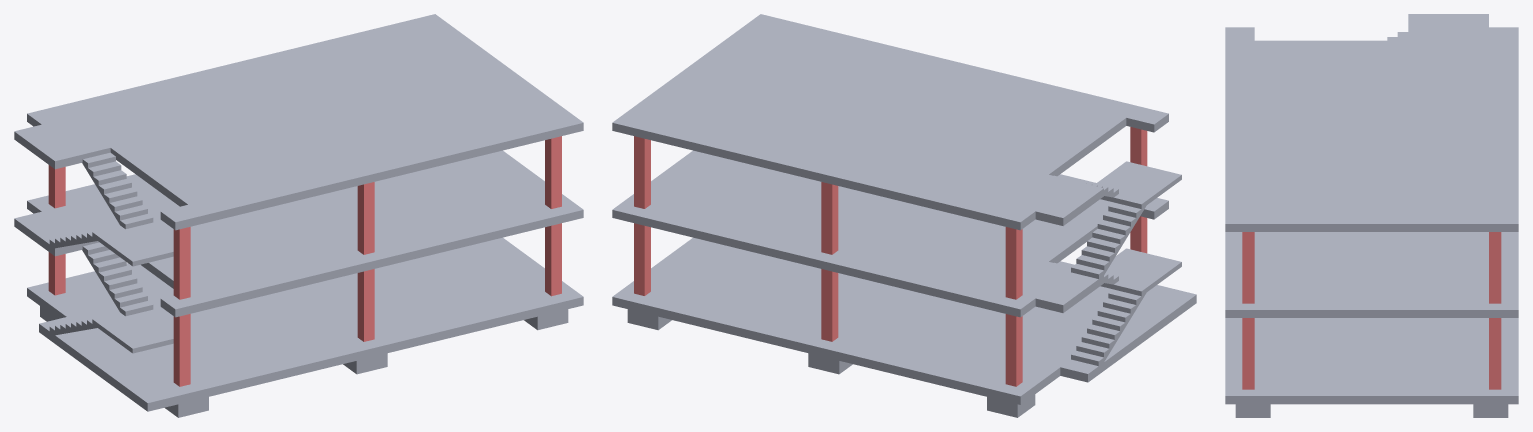
The model's file is Domino_01.glb.
3 views of the same model, side by side, from view 1: azimuth 30°, elevation 25°; view 2: azimuth 150°, elevation 25°; view 3: azimuth 270°, elevation 25° (orthographic).
Parts seen in each view (by area): view 1: mass; view 2: mass; view 3: mass.
Boxes of the visible parts, box(x1,y1,x2,y2) form: mass: box(14, 14, 583, 417); mass: box(612, 14, 1196, 417); mass: box(1225, 14, 1518, 417).
Size of what is drawn, in the model's own units: 14.15 by 6.24 by 8.35.
